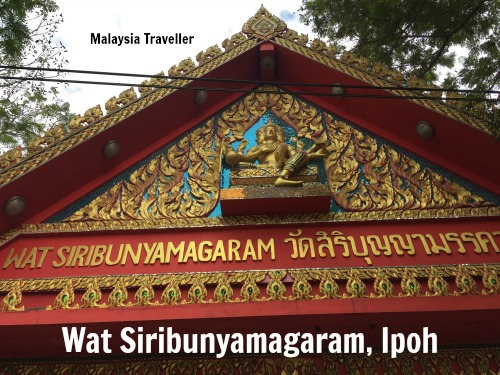Buddhist Temple: (13, 14, 488, 298)
